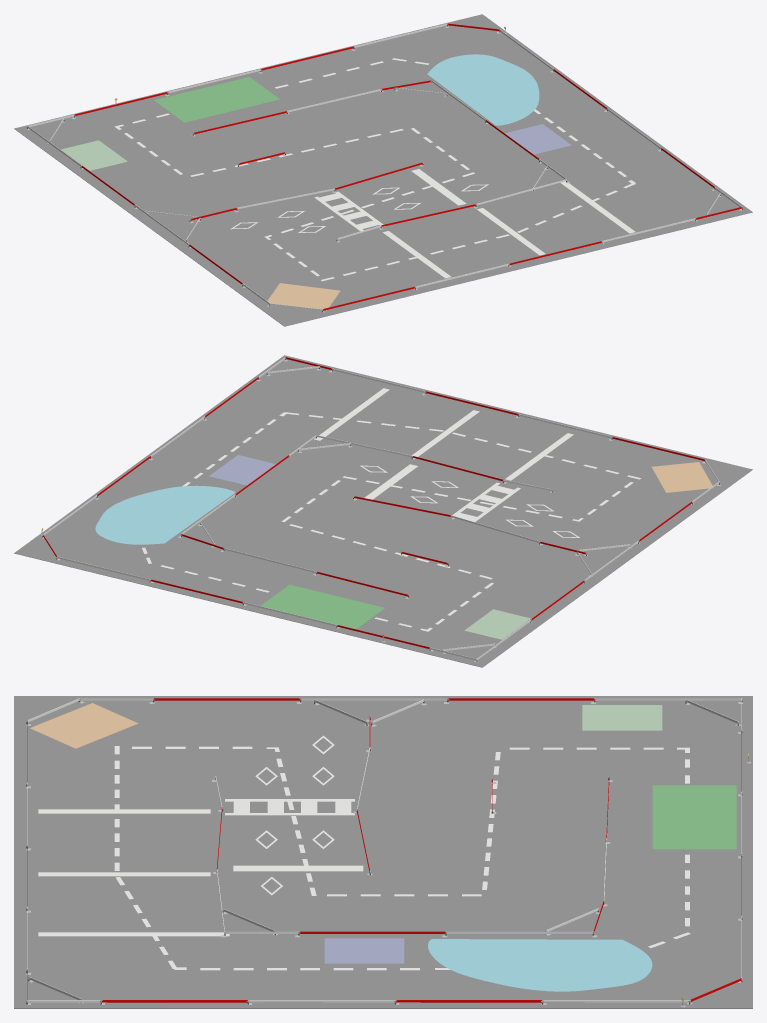
File: course.fbx
3 views of the same model, one above another, from view 1: azimuth 30°, elevation 25°; view 2: azimuth 150°, elevation 25°; view 3: azimuth 270°, elevation 25° (orthographic). The views are drawn at different scales.
Visible parts, largest first — view 1: Carpet, SlipZone, Grass, Park1, Park2, Park3, SideWalk; view 2: Carpet, SlipZone, Grass, Park1, Park3, Park2, SideWalk; view 3: Carpet, SlipZone, Grass, Park1, Park2, Park3, SideWalk, Start1, WhiteLine, Start2, Start3.
Boxes of the visible parts, <box> form: Carpet: <box>14,14,752,326</box>; SlipZone: <box>427,54,539,125</box>; Grass: <box>154,77,279,122</box>; Park1: <box>266,283,340,310</box>; Park2: <box>61,140,127,170</box>; Park3: <box>505,124,571,154</box>; SideWalk: <box>314,191,385,231</box>; Carpet: <box>14,355,752,667</box>; SlipZone: <box>95,485,235,544</box>; Grass: <box>261,584,384,629</box>; Park1: <box>651,462,713,492</box>; Park3: <box>209,455,275,485</box>; Park2: <box>464,609,530,639</box>; SideWalk: <box>450,482,520,521</box>; Carpet: <box>14,696,752,1008</box>; SlipZone: <box>428,939,652,991</box>; Grass: <box>652,785,736,849</box>; Park1: <box>30,703,138,748</box>; Park2: <box>582,705,662,730</box>; Park3: <box>324,938,404,963</box>; SideWalk: <box>225,799,354,815</box>; Start1: <box>38,932,229,936</box>; WhiteLine: <box>233,865,363,871</box>; Start2: <box>38,872,210,876</box>; Start3: <box>38,809,210,813</box>.
Bounding box in the file's own units: 910 × 13.97 × 910.
